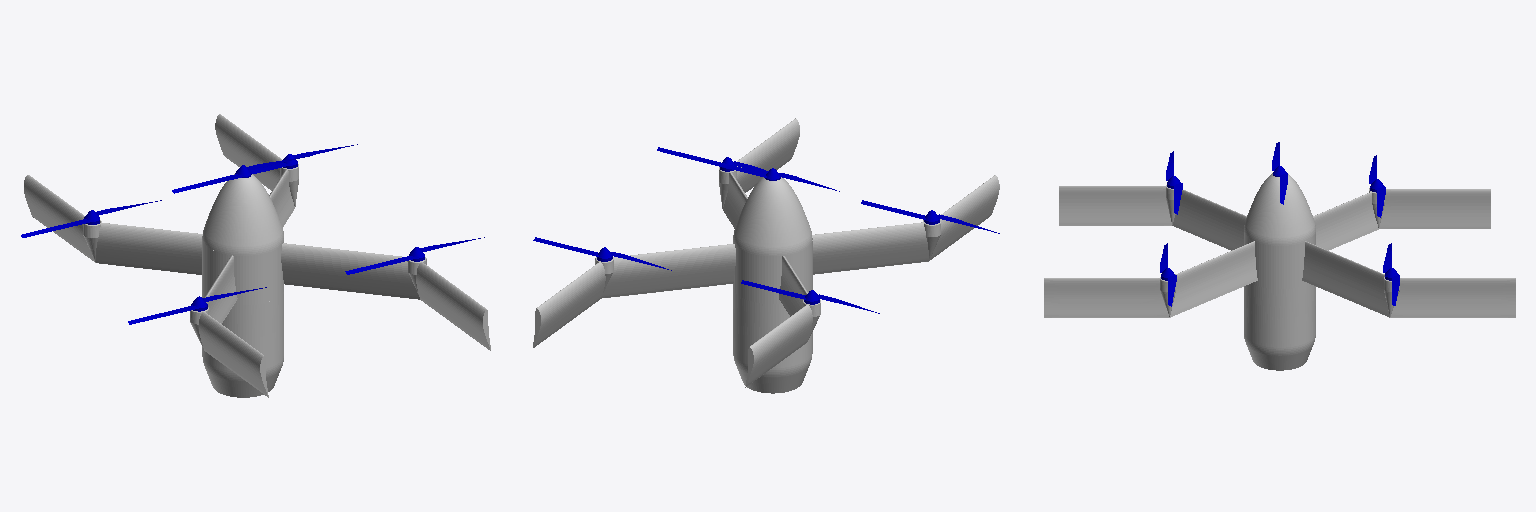
URDF robot description (hermes):
<?xml version="1.0"?>
<robot name="hermes">

<material name="blue">
    <color rgba="0 0 0.8 1"/>
  </material>
  <material name="black">
    <color rgba="0 0 0 1"/>
  </material>
  <material name="white">
    <color rgba="1 1 1 1"/>
  </material>
  <material name="grey">
    <color rgba="0.8 0.8 0.8 1"/>
  </material>



  <link name="base_link">
  </link>


  <joint name="dummy_joint" type="fixed">
    <parent link="base_link"/>
    <child link="frame"/>
    <origin xyz="0 0 0.8" rpy="0 -1.571 0"/>
  </joint>


  <link name="frame">
    <visual>
      <origin rpy="0.0 0 0" xyz="0 0 0"/>
      <geometry>
        <mesh filename="package://salvos_gz/models/hermes/meshes/hermes_mesh_scaled.stl"/>
      </geometry>
      <material name="grey"/>
    </visual>
    <collision>
      <origin rpy="0.0 0 0" xyz="0 0 0"/>
      <geometry>
        <mesh filename="package://salvos_gz/models/hermes/meshes/hermes_mesh_scaled.stl"/>
      </geometry>
    </collision>
    <inertial>
      <origin xyz="0 0 0" rpy="0 0 0"/>   <!-- -0.655083 -2.516692 1.106822 -->
      <mass value="1630.0"/>
    <inertia
      ixx="70.10" ixy="-0.003142" ixz="0.0001132"
      iyy="111.5" iyz="0.000095407"
      izz="111.5"/>
    </inertial>
  </link>


  <link name="nose_rotor">
    <visual>
      <origin rpy="0 0 0" xyz="0 0 0"/>
      <geometry>
        <mesh filename="package://salvos_gz/models/hermes/meshes/propeller_scaled.stl"/>
      </geometry>
      <material name="blue"/>
    </visual>
    <collision>
      <origin rpy="0.0 0 0" xyz="0 0 0"/>
      <geometry>
        <mesh filename="package://salvos_gz/models/hermes/meshes/propeller_scaled.stl"/>
      </geometry>
    </collision>
    <inertial>
      <origin xyz="0 0 0" rpy="0 0 0"/>
      <mass value="5"/>
      <inertia
        ixx="43.00" ixy="-0.0486" ixz="-0.0486"
        iyy="34.33" iyz="0.000060945"
        izz="34.33"/>
    </inertial>
  </link>


  <joint name="nose_rotor_joint" type="continuous">
    <parent link="frame"/>
    <child link="nose_rotor"/>
    <origin xyz="1 0 0" rpy="0 1.571 3.14159"/>
    <axis xyz="0 0 1"/>
    <limit lower="0" upper="0" effort="0.1" velocity="100"/>
    <dynamics damping="0.01" friction="0.001"/>
  </joint>


  <link name="fl_rotor">
    <visual>
      <origin rpy="0 0 0" xyz="0 0 0"/>
      <geometry>
        <mesh filename="package://salvos_gz/models/hermes/meshes/propeller_scaled.stl"/>
      </geometry>
      <material name="blue"/>
    </visual>
    <collision>
      <origin rpy="0.0 0 0" xyz="0 0 0"/>
      <geometry>
        <mesh filename="package://salvos_gz/models/hermes/meshes/propeller_scaled.stl"/>
      </geometry>
    </collision>
    <inertial>
      <origin xyz="0 0 0" rpy="0 0 0"/>
      <mass value="5"/>
      <inertia
        ixx="43.00" ixy="-0.0486" ixz="-0.0486"
        iyy="34.33" iyz="0.000060945"
        izz="34.33"/>
    </inertial>
  </link>


  <joint name="fl_rotor_joint" type="continuous">
    <parent link="frame"/>
    <child link="fl_rotor"/>
    <origin xyz="0.5 0.81 0.81" rpy="0 1.571 3.14159"/>
    <axis xyz="0 0 1"/>
    <limit lower="0" upper="0" effort="0.1" velocity="100"/>
    <dynamics damping="0.01" friction="0.001"/>
  </joint>



  <link name="fr_rotor">
    <visual>
      <origin rpy="0 0 0" xyz="0 0 0"/>
      <geometry>
        <mesh filename="package://salvos_gz/models/hermes/meshes/propeller_scaled.stl"/>
      </geometry>
      <material name="blue"/>
    </visual>
    <collision>
      <origin rpy="0.0 0 0" xyz="0 0 0"/>
      <geometry>
        <mesh filename="package://salvos_gz/models/hermes/meshes/propeller_scaled.stl"/>
      </geometry>
    </collision>
    <inertial>
      <origin xyz="0 0 0" rpy="0 0 0"/>
      <mass value="5"/>
      <inertia
        ixx="43.00" ixy="-0.0486" ixz="-0.0486"
        iyy="34.33" iyz="0.000060945"
        izz="34.33"/>
    </inertial>
  </link>


  <joint name="fr_rotor_joint" type="continuous">
    <parent link="frame"/>
    <child link="fr_rotor"/>
    <origin xyz="0.5 -0.88 0.88" rpy="0 1.571 3.14159"/>
    <axis xyz="0 0 1"/>
    <limit lower="0" upper="0" effort="0.1" velocity="100"/>
    <dynamics damping="0.01" friction="0.001"/>
  </joint>



  <link name="rl_rotor">
    <visual>
      <origin rpy="0 0 0" xyz="0 0 0"/>
      <geometry>
        <mesh filename="package://salvos_gz/models/hermes/meshes/propeller_scaled.stl"/>
      </geometry>
      <material name="blue"/>
    </visual>
    <collision>
      <origin rpy="0.0 0 0" xyz="0 0 0"/>
      <geometry>
        <mesh filename="package://salvos_gz/models/hermes/meshes/propeller_scaled.stl"/>
      </geometry>
    </collision>
    <inertial>
      <origin xyz="0 0 0" rpy="0 0 0"/>
      <mass value="5"/>
      <inertia
        ixx="43.00" ixy="-0.0486" ixz="-0.0486"
        iyy="34.33" iyz="0.000060945"
        izz="34.33"/>
    </inertial>
  </link>


  <joint name="rl_rotor_joint" type="continuous">
    <parent link="frame"/>
    <child link="rl_rotor"/>
    <origin xyz="0.5 -0.93 -0.93" rpy="0 1.571 3.14159"/>
    <axis xyz="0 0 1"/>
    <limit lower="0" upper="0" effort="0.1" velocity="100"/>
    <dynamics damping="0.01" friction="0.001"/>
  </joint>




  <link name="rr_rotor">
    <visual>
      <origin rpy="0 0 0" xyz="0 0 0"/>
      <geometry>
        <mesh filename="package://salvos_gz/models/hermes/meshes/propeller_scaled.stl"/>
      </geometry>
      <material name="blue"/>
    </visual>
    <collision>
      <origin rpy="0.0 0 0" xyz="0 0 0"/>
      <geometry>
        <mesh filename="package://salvos_gz/models/hermes/meshes/propeller_scaled.stl"/>
      </geometry>
    </collision>
    <inertial>
      <origin xyz="0 0 0" rpy="0 0 0"/>
      <mass value="5"/>
      <inertia
        ixx="43.00" ixy="-0.0486" ixz="-0.0486"
        iyy="34.33" iyz="0.000060945"
        izz="34.33"/>
    </inertial>
  </link>


  <joint name="rr_rotor_joint" type="continuous">
    <parent link="frame"/>
    <child link="rr_rotor"/>
    <origin xyz="0.5 0.93 -0.93" rpy="0 1.571 3.14159"/>
    <axis xyz="0 0 1"/>
    <limit lower="0" upper="0" effort="0.1" velocity="100"/>
    <dynamics damping="0.01" friction="0.001"/>
  </joint>


  <gazebo>
    <plugin name="gz::sim::systems::JointController" filename="libgz-sim-joint-controller-system.so">
      <joint_name>nose_rotor_joint</joint_name>
      <topic>/model/hermes/joint/nose_rotor_joint/cmd_vel</topic>
    </plugin>
  </gazebo>


  <gazebo>
    <plugin name="gz::sim::systems::JointController" filename="libgz-sim-joint-controller-system.so">
      <joint_name>fl_rotor_joint</joint_name>
      <topic>/model/hermes/joint/fl_rotor_joint/cmd_vel</topic>
    </plugin>
  </gazebo>


  <gazebo>
    <plugin name="gz::sim::systems::JointController" filename="libgz-sim-joint-controller-system.so">
      <joint_name>fr_rotor_joint</joint_name>
      <topic>/model/hermes/joint/fr_rotor_joint/cmd_vel</topic>
    </plugin>
  </gazebo>

  <gazebo>
    <plugin name="gz::sim::systems::JointController" filename="libgz-sim-joint-controller-system.so">
      <joint_name>rl_rotor_joint</joint_name>
      <topic>/model/hermes/joint/rl_rotor_joint/cmd_vel</topic>
    </plugin>
  </gazebo>

  <gazebo>
    <plugin name="gz::sim::systems::JointController" filename="libgz-sim-joint-controller-system.so">
      <joint_name>rr_rotor_joint</joint_name>
      <topic>/model/hermes/joint/rr_rotor_joint/cmd_vel</topic>
    </plugin>
  </gazebo>


</robot>

--- Render facts (derived) ---
The picture shows the robot from 3 angles, left to right: view 1: azimuth 30°, elevation 25°; view 2: azimuth 150°, elevation 25°; view 3: azimuth 270°, elevation 25°; orthographic projection.
Model hermes with 7 links and 6 joints (5 continuous, 1 fixed), rooted at base_link, posed all joints at 0.
Links seen in each view (by area): view 1: frame, fr_rotor, rl_rotor, fl_rotor, nose_rotor; view 2: frame, fl_rotor, fr_rotor, rr_rotor, nose_rotor; view 3: frame.
Link boxes in pixels (box(x1,y1,x2,y2)): frame: box(24, 114, 490, 397); fr_rotor: box(128, 287, 266, 324); rl_rotor: box(345, 237, 484, 274); fl_rotor: box(21, 200, 161, 237); nose_rotor: box(172, 155, 312, 193); frame: box(533, 118, 999, 393); fl_rotor: box(741, 280, 879, 313); fr_rotor: box(861, 200, 999, 233); rr_rotor: box(533, 237, 671, 270); nose_rotor: box(702, 158, 839, 191); frame: box(1044, 173, 1515, 370).
Size in the robot's own frame: 3.02 by 3.92 by 1.77 metres.
Meshes: 2 distinct files referenced, 6 mesh visuals loaded (2 binary STL).
